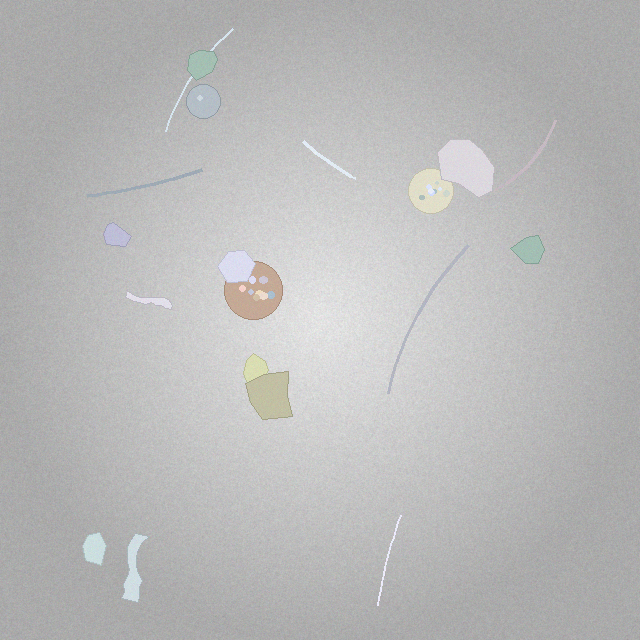fiber: (384, 242, 472, 397), (162, 27, 236, 134), (491, 117, 559, 194), (83, 167, 206, 201), (375, 512, 403, 608), (300, 139, 358, 182)
film: (122, 533, 149, 603), (125, 290, 172, 309)
foam: (225, 262, 282, 319), (409, 168, 454, 214)
fragment: (437, 139, 495, 197), (246, 371, 292, 420), (217, 251, 256, 282), (510, 235, 544, 264), (243, 354, 268, 390), (187, 50, 217, 80), (82, 533, 107, 565), (104, 222, 131, 246)
pellet: (186, 84, 221, 119)
